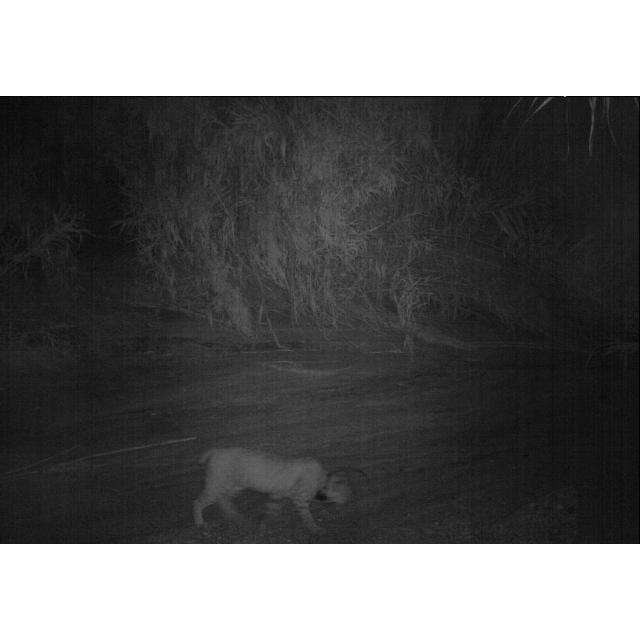animals: (181, 443, 357, 532)
